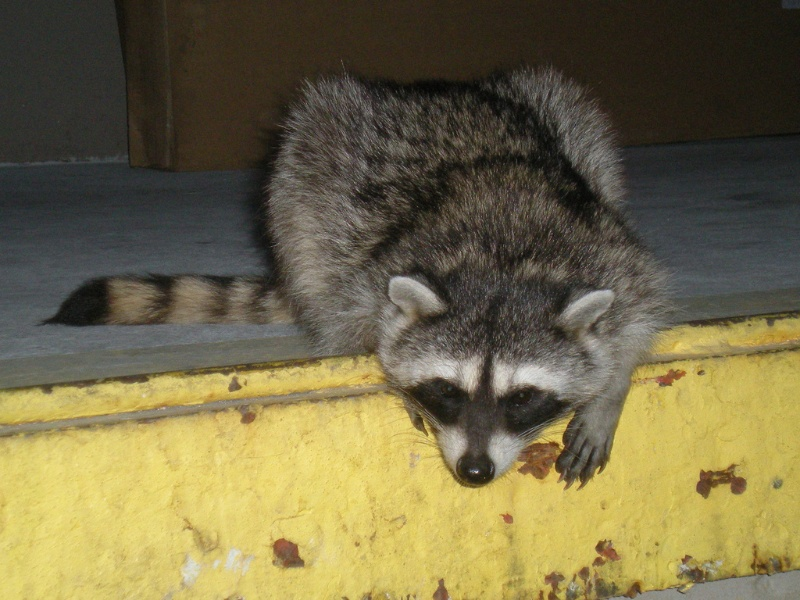raccoon: (45, 53, 693, 496)
